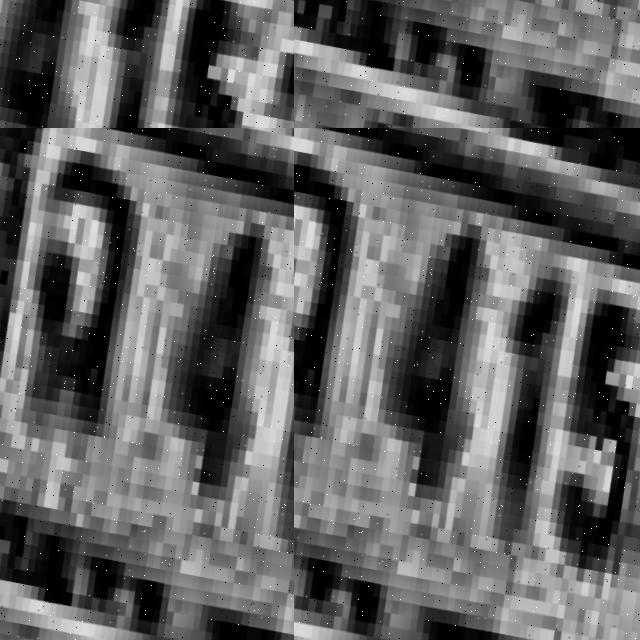license-plate: (294, 128, 640, 640), (0, 128, 294, 640), (294, 0, 640, 128)
